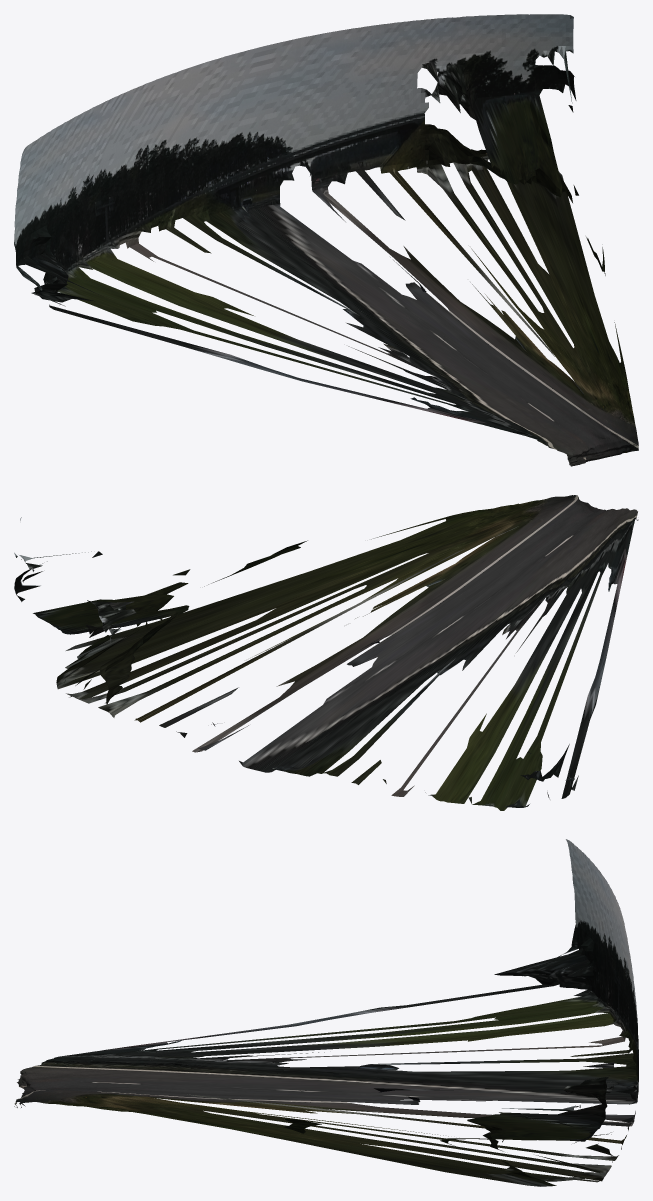
3 renders of one model, top to bottom at view 1: azimuth 30°, elevation 25°; view 2: azimuth 150°, elevation 25°; view 3: azimuth 270°, elevation 25°, orthographic. The views are drawn at different scales.
Parts seen in each view (by area): view 1: defaultobject; view 2: defaultobject; view 3: defaultobject.
Part boxes in pixels (left/top/right/bottom): defaultobject: left=14, top=14, right=638, bottom=466; defaultobject: left=14, top=495, right=638, bottom=810; defaultobject: left=14, top=839, right=638, bottom=1186.
Size of the model in its own units: 40.98 by 12.12 by 44.57.
1 material, 1 textured.
